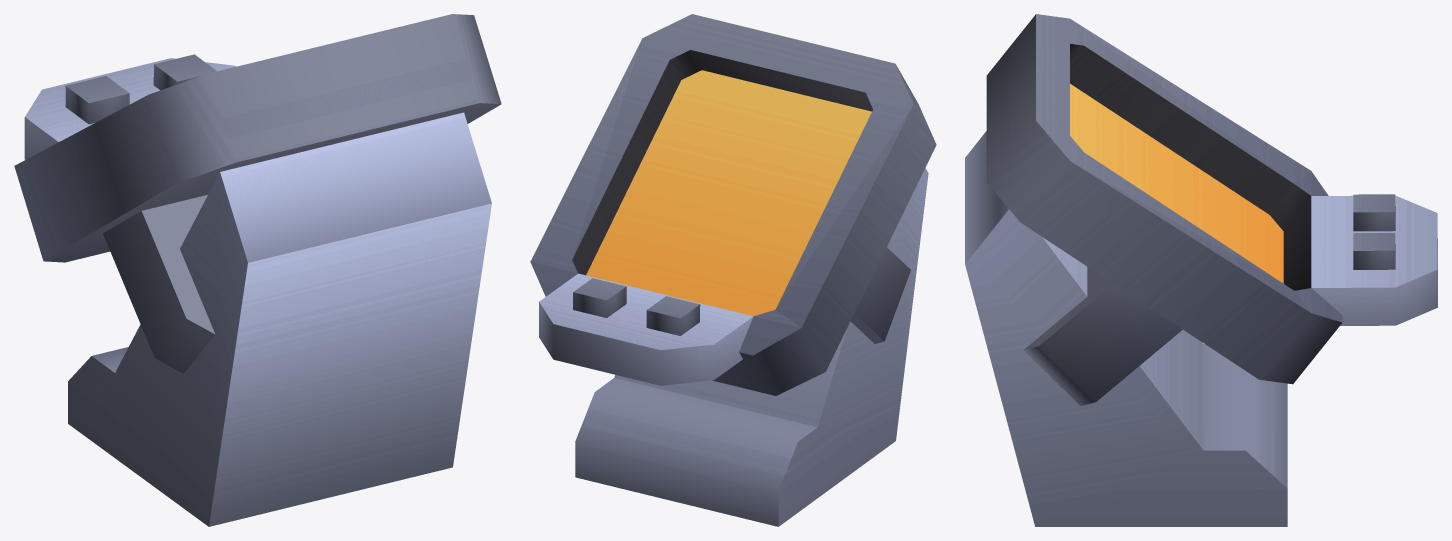
File: computer_console.glb
3 views of the same model, side by side, from view 1: azimuth 30°, elevation 25°; view 2: azimuth 150°, elevation 25°; view 3: azimuth 270°, elevation 25° (orthographic). The views are drawn at different scales.
Visible parts, largest first — view 1: computer; view 2: computer; view 3: computer.
Boxes of the visible parts, box(x1,y1,x2,y2) form: computer: box(14, 14, 501, 526); computer: box(530, 14, 936, 526); computer: box(965, 14, 1437, 526).
Bounding box in the file's own units: 1.27 × 1.7 × 1.79.
Materials: 1 (1 with a texture image).
